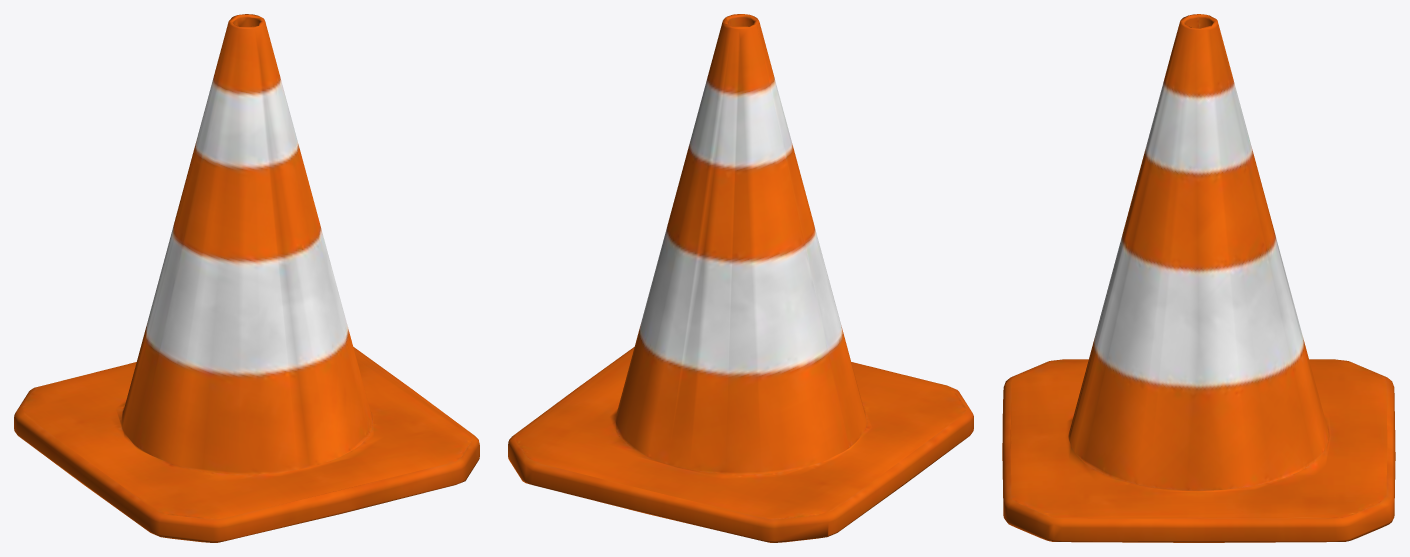
3 views of the same model, side by side, from view 1: azimuth 30°, elevation 25°; view 2: azimuth 150°, elevation 25°; view 3: azimuth 270°, elevation 25° (orthographic). The views are drawn at different scales.
Parts seen in each view (by area): view 1: Cone Normal; view 2: Cone Normal; view 3: Cone Normal.
Part boxes in pixels (x1,y1,x2,y2): Cone Normal: (14, 14, 479, 542); Cone Normal: (508, 14, 973, 542); Cone Normal: (1002, 14, 1395, 542).
Bounding box in the file's own units: 0.42 × 0.5188 × 0.42.
Materials: 1 (1 with a texture image).
